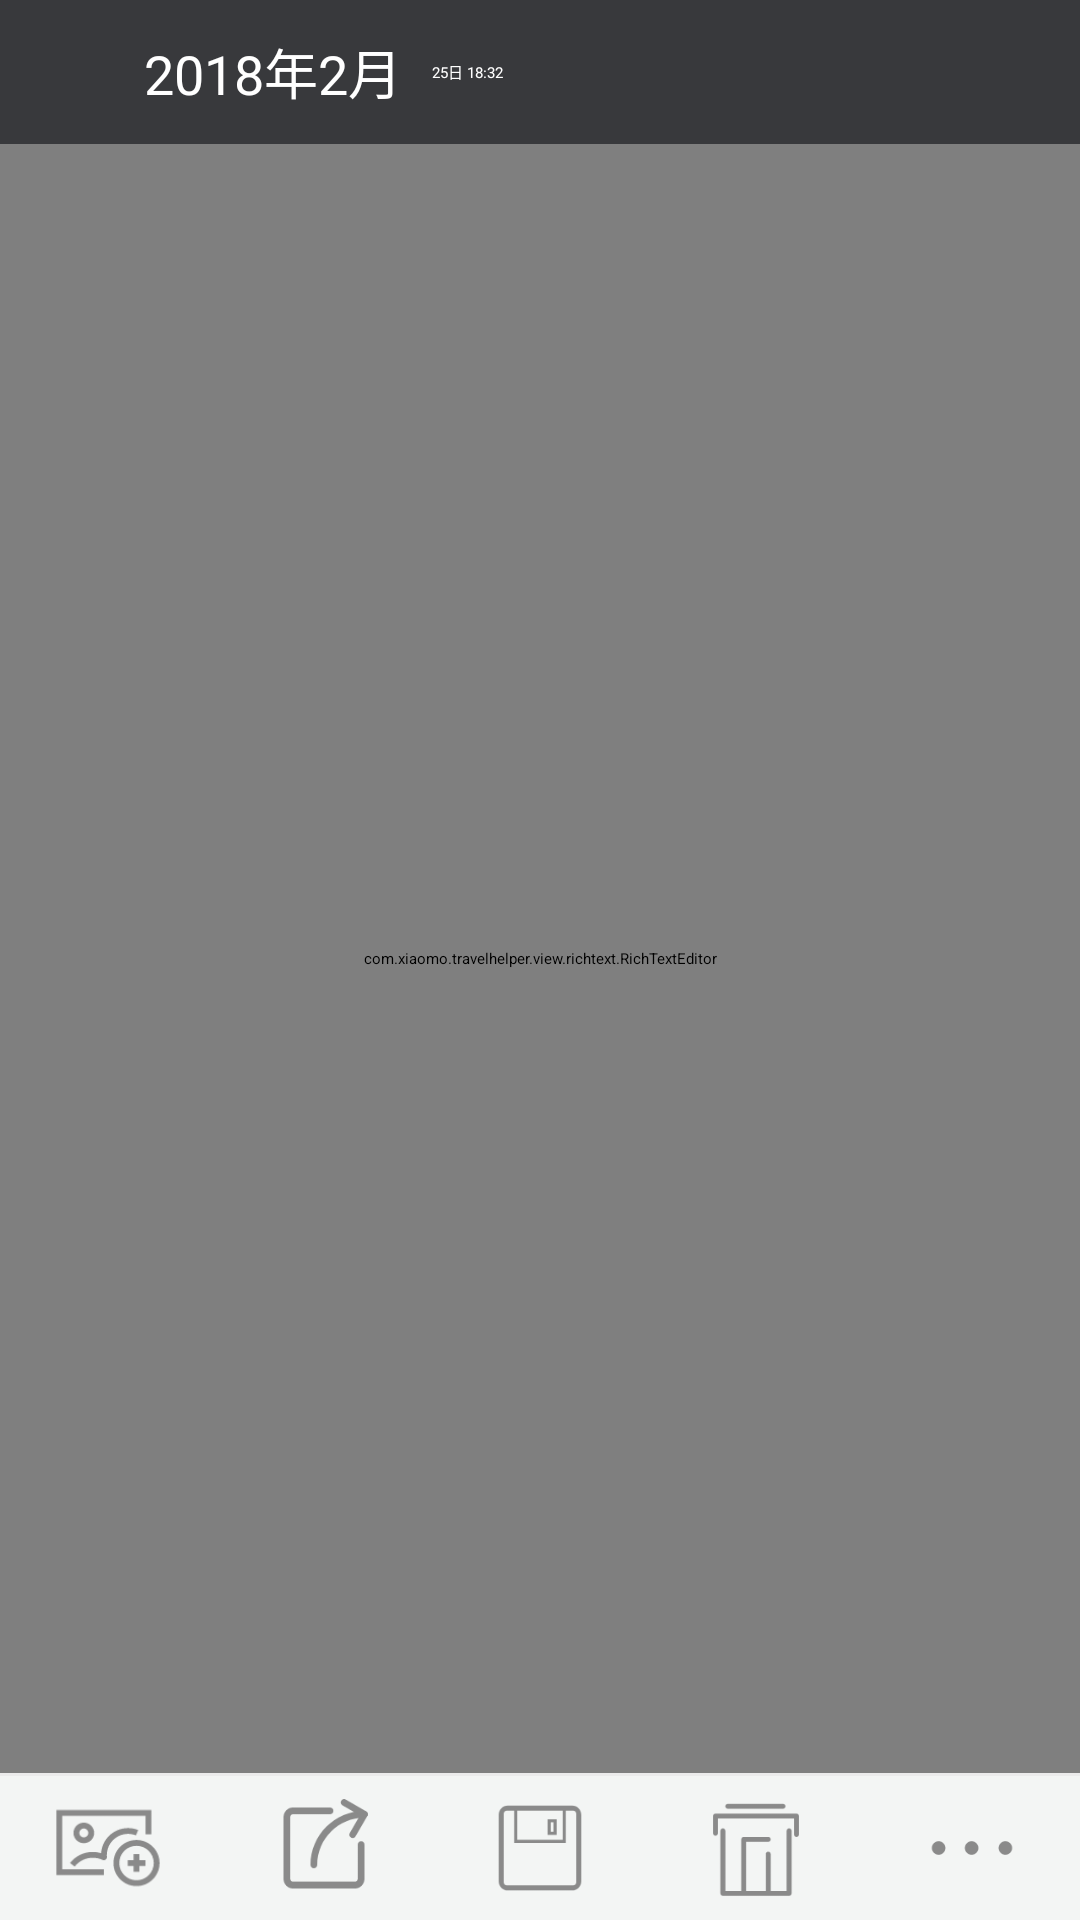

Screen size 1080 x 1920. Icon name, then its box in pixels as (x1, y1, x2, y2):
delete: (713, 1804, 799, 1896)
more: (931, 1841, 1013, 1855)
save: (498, 1805, 582, 1891)
share: (283, 1799, 368, 1889)
